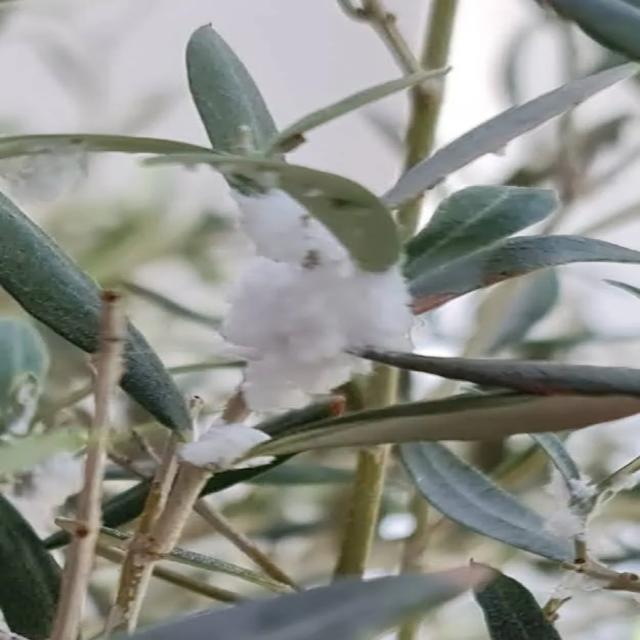Psyllid: (220, 190, 414, 415), (541, 452, 639, 621), (178, 419, 272, 473)
